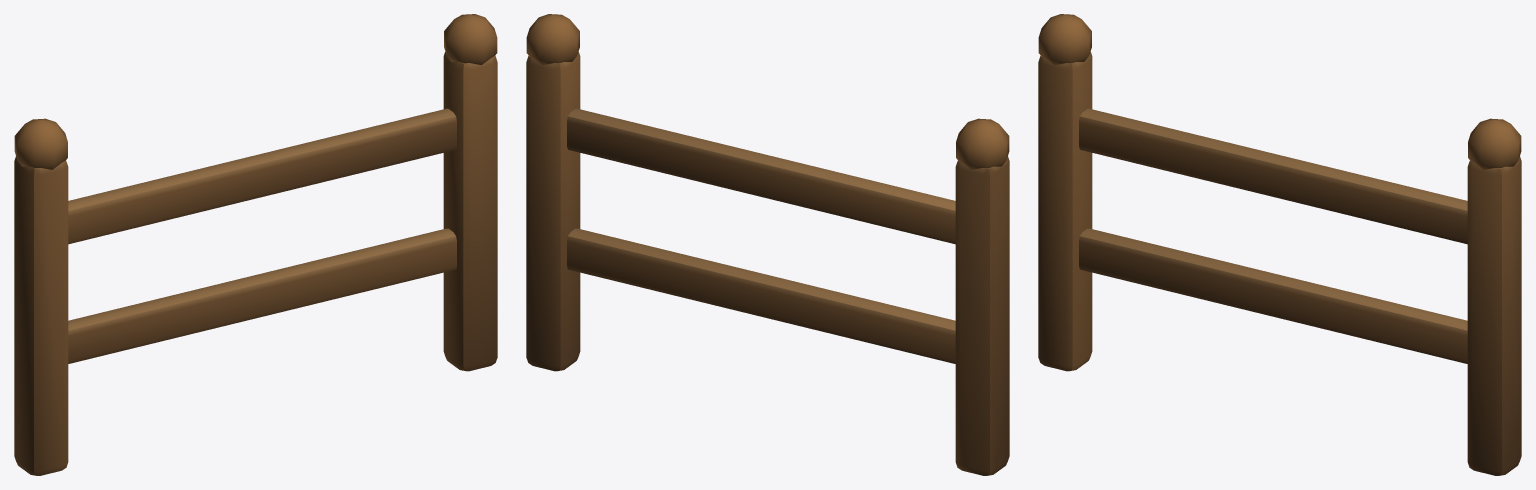
Rendered from gard.glb.
3 views of the same model, side by side, from view 1: azimuth 30°, elevation 25°; view 2: azimuth 150°, elevation 25°; view 3: azimuth 330°, elevation 25° (orthographic).
Visible parts, largest first — view 1: gard; view 2: gard; view 3: gard.
Part boxes in pixels (box(x1,y1,x2,y2)): gard: box(14, 14, 497, 475); gard: box(526, 14, 1009, 475); gard: box(1038, 14, 1521, 475).
Bounding box in the file's own units: 1.33 × 0.93 × 0.1331.
